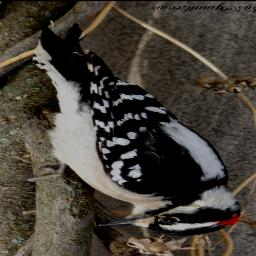Woodpecker: (28, 23, 241, 237)
